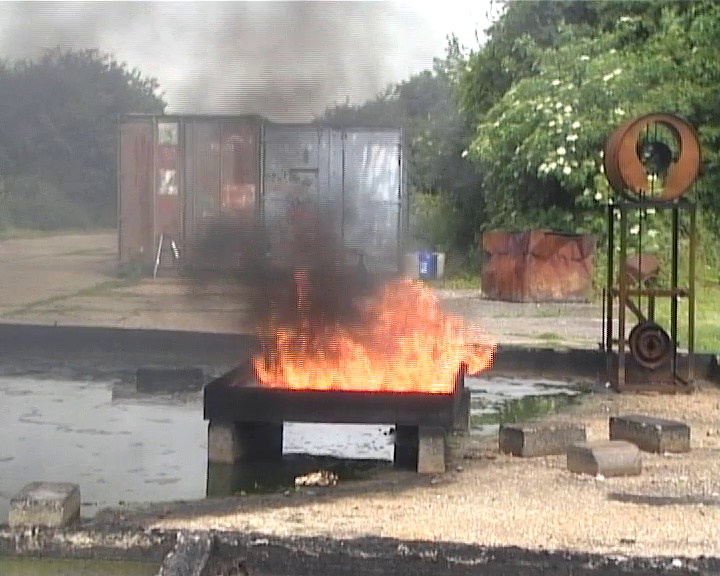fire: (257, 279, 472, 389)
